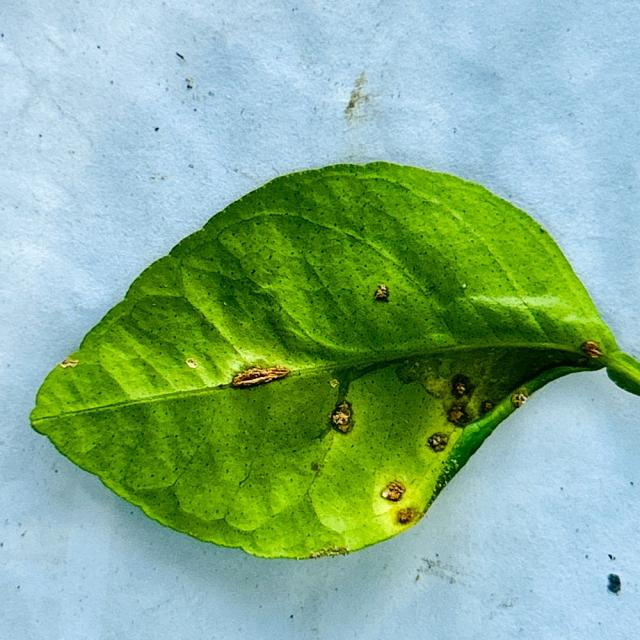Anthracnose: (230, 364, 292, 388), (330, 400, 355, 433), (369, 282, 394, 307), (447, 401, 471, 426), (450, 373, 473, 399), (381, 480, 406, 502), (426, 431, 450, 453), (580, 340, 604, 358), (511, 391, 529, 409), (59, 356, 80, 369)
Lemon: (28, 161, 639, 563)
